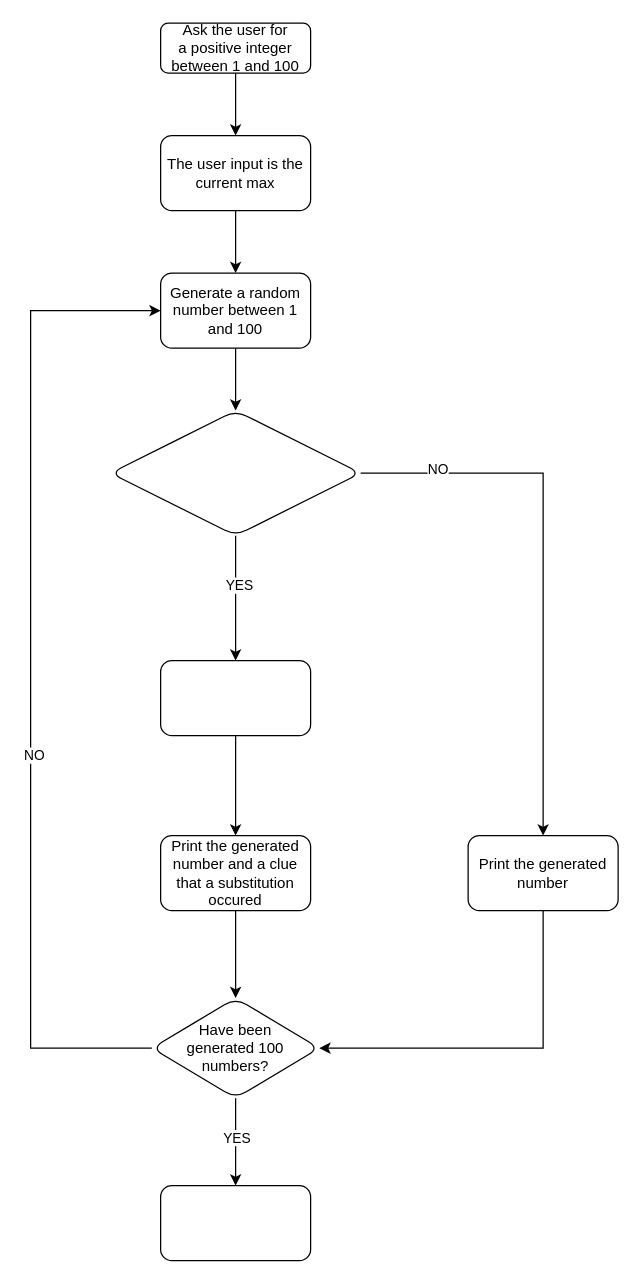
Some shapes in this 640 by 1283 pixel diagram are drawn without their labels. Here are the shapes that lost their labels. From the top down, the centre of each, then its label:
At (235,472): "The generated number is greater than the current max?".
At (235,697): "Substitute the generated number to the current max".
At (235,1222): "Print the current max and the number of substitutions occured".
